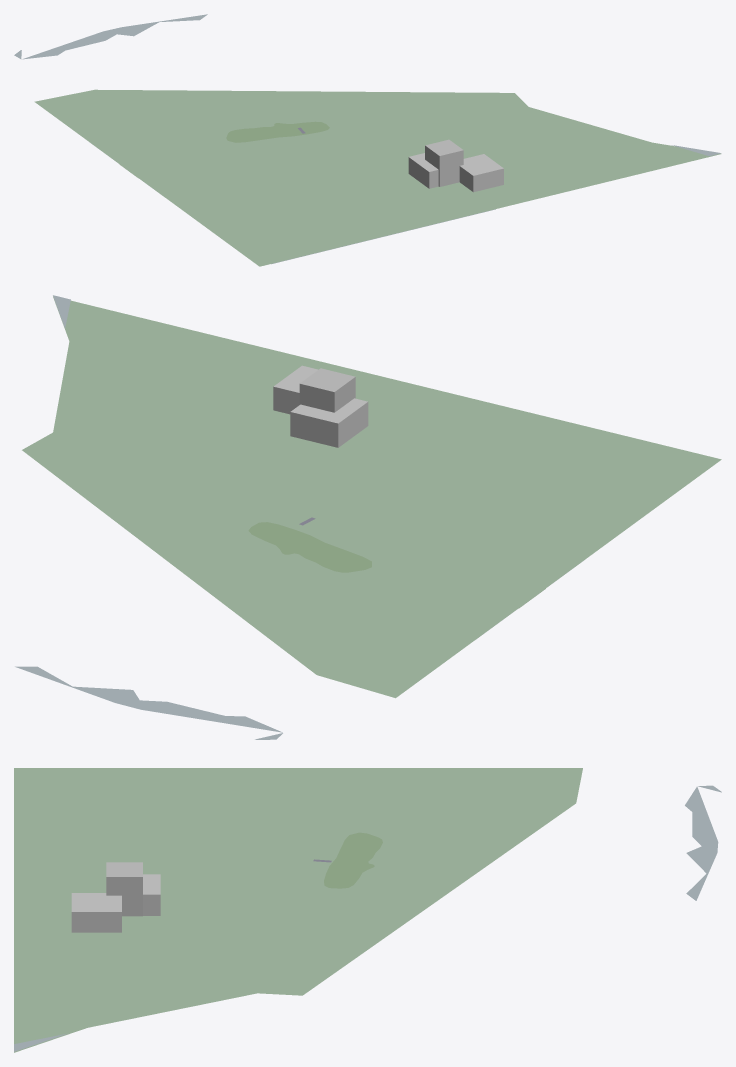
File: 132_80_mid.glb
3 renders of one model, top to bottom at view 1: azimuth 30°, elevation 25°; view 2: azimuth 150°, elevation 25°; view 3: azimuth 270°, elevation 25°, orthographic. The views are drawn at different scales.
Size of the model in its own units: 458 by 29.89 by 481.
